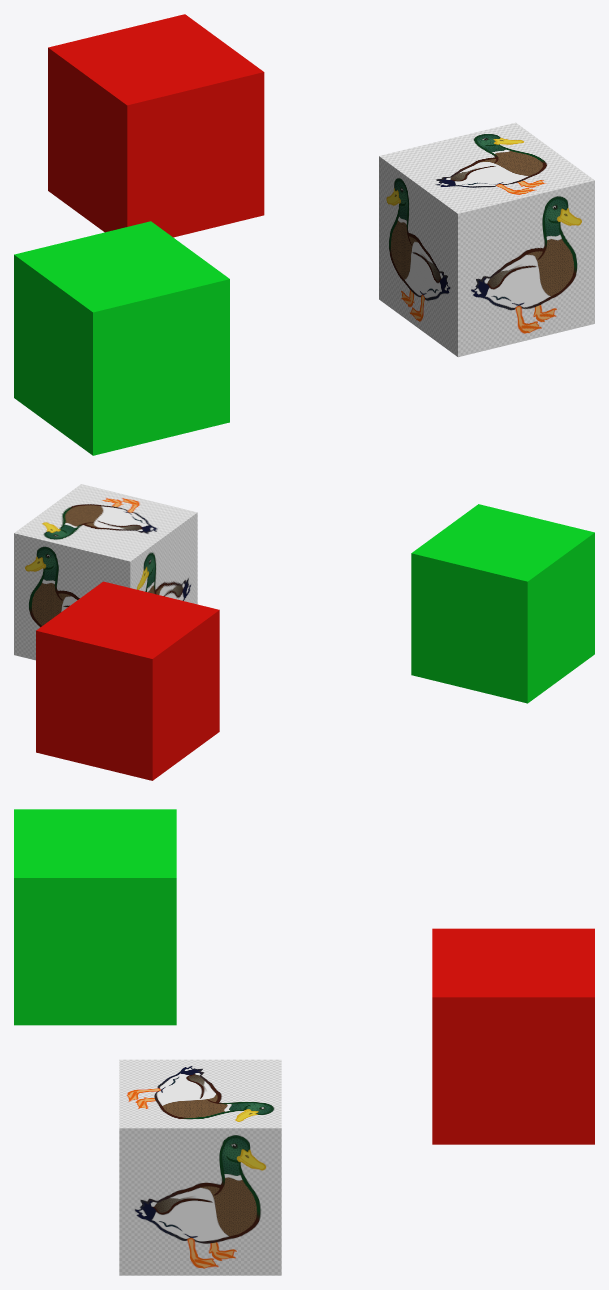
Rendered from DuckBox.fbx.
3 views of the same model, one above another, from view 1: azimuth 30°, elevation 25°; view 2: azimuth 150°, elevation 25°; view 3: azimuth 270°, elevation 25° (orthographic). The views are drawn at different scales.
Parts seen in each view (by area): view 1: Cube.002, Cube, Cube.001; view 2: Cube.001, Cube.002, Cube; view 3: Cube, Cube.001, Cube.002.
Boxes of the visible parts, x1,y1,x2,y2 form: Cube.002: (14, 221, 229, 455); Cube: (379, 122, 594, 357); Cube.001: (48, 14, 264, 237); Cube.001: (36, 581, 219, 780); Cube.002: (411, 504, 594, 703); Cube: (14, 484, 197, 660); Cube: (119, 1059, 281, 1275); Cube.001: (432, 928, 594, 1144); Cube.002: (14, 809, 176, 1025).
Size of the model in its own units: 808 by 256 by 715.
3 materials, 1 textured.
